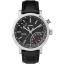watch: (11, 12, 51, 51)
